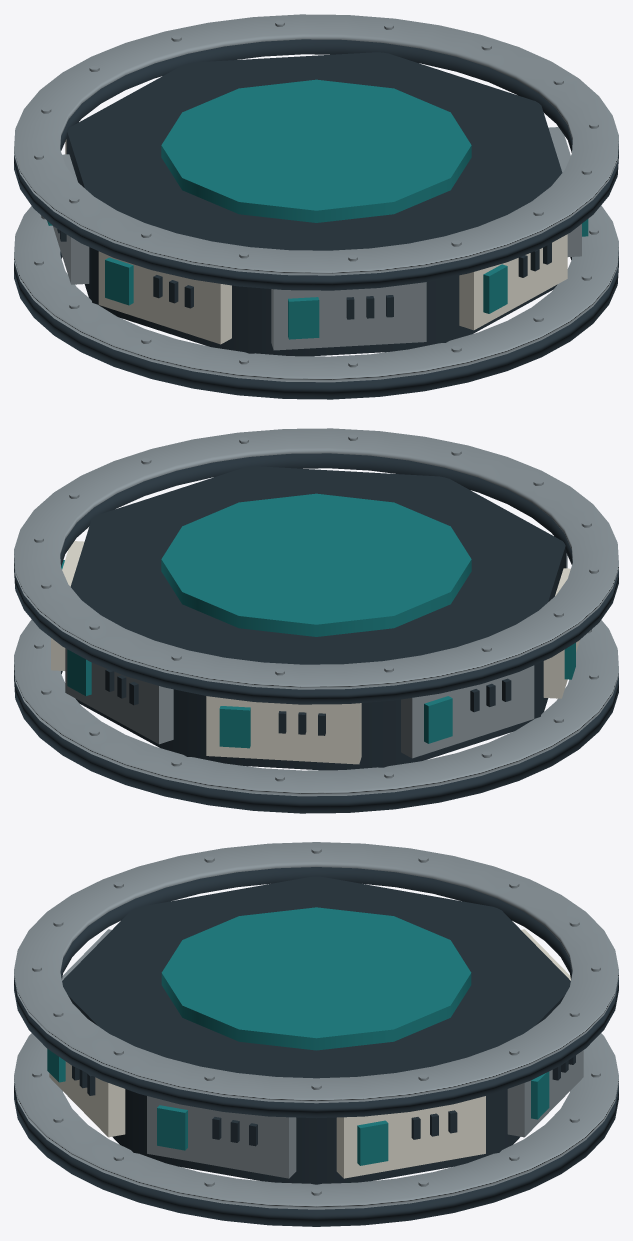
File: pb_1_strizh.glb
3 renders of one model, top to bottom at view 1: azimuth 30°, elevation 25°; view 2: azimuth 150°, elevation 25°; view 3: azimuth 270°, elevation 25°, orthographic.
Parts seen in each view (by area): view 1: pb_1_strizh.mesh_JUGRE_·_graphite_composite, pb_1_strizh.mesh_JUGRE_·_bead-blasted_titanium, pb_1_strizh.mesh_JUGRE_·_signal_teal, pb_1_strizh.avionics_bay_08.mesh_JUGRE_·_bead-blasted_titani, pb_1_strizh.avionics_bay_07.mesh_JUGRE_·_bone_ceramic, pb_1_strizh.avionics_bay_01.mesh_JUGRE_·_bone_ceramic, pb_1_strizh.avionics_bay_06.mesh_JUGRE_·_bead-blasted_titani, pb_1_strizh.avionics_bay_08.mesh_JUGRE_·_signal_teal, pb_1_strizh.avionics_bay_07.mesh_JUGRE_·_signal_teal, pb_1_strizh.avionics_bay_01.mesh_JUGRE_·_signal_teal, pb_1_strizh.avionics_bay_02.mesh_JUGRE_·_bead-blasted_titani, pb_1_strizh.avionics_bay_07.mesh_JUGRE_·_graphite_composite (+2 smaller); view 2: pb_1_strizh.mesh_JUGRE_·_graphite_composite, pb_1_strizh.mesh_JUGRE_·_bead-blasted_titanium, pb_1_strizh.mesh_JUGRE_·_signal_teal, pb_1_strizh.avionics_bay_05.mesh_JUGRE_·_bone_ceramic, pb_1_strizh.avionics_bay_06.mesh_JUGRE_·_bead-blasted_titani, pb_1_strizh.avionics_bay_04.mesh_JUGRE_·_bead-blasted_titani, pb_1_strizh.avionics_bay_05.mesh_JUGRE_·_signal_teal, pb_1_strizh.avionics_bay_06.mesh_JUGRE_·_signal_teal, pb_1_strizh.avionics_bay_07.mesh_JUGRE_·_bone_ceramic, pb_1_strizh.avionics_bay_03.mesh_JUGRE_·_bone_ceramic, pb_1_strizh.avionics_bay_04.mesh_JUGRE_·_signal_teal, pb_1_strizh.avionics_bay_06.mesh_JUGRE_·_graphite_composite (+2 smaller); view 3: pb_1_strizh.mesh_JUGRE_·_graphite_composite, pb_1_strizh.mesh_JUGRE_·_bead-blasted_titanium, pb_1_strizh.mesh_JUGRE_·_signal_teal, pb_1_strizh.avionics_bay_03.mesh_JUGRE_·_bone_ceramic, pb_1_strizh.avionics_bay_02.mesh_JUGRE_·_bead-blasted_titani, pb_1_strizh.avionics_bay_01.mesh_JUGRE_·_bone_ceramic, pb_1_strizh.avionics_bay_04.mesh_JUGRE_·_bead-blasted_titani, pb_1_strizh.avionics_bay_03.mesh_JUGRE_·_signal_teal, pb_1_strizh.avionics_bay_02.mesh_JUGRE_·_signal_teal, pb_1_strizh.avionics_bay_04.mesh_JUGRE_·_signal_teal, pb_1_strizh.avionics_bay_02.mesh_JUGRE_·_graphite_composite, pb_1_strizh.avionics_bay_03.mesh_JUGRE_·_graphite_composite.
Boxes of the visible parts, x1,y1,x2,y2 form: pb_1_strizh.mesh_JUGRE_·_graphite_composite: [14, 39, 618, 399]; pb_1_strizh.mesh_JUGRE_·_bead-blasted_titanium: [14, 14, 618, 382]; pb_1_strizh.mesh_JUGRE_·_signal_teal: [161, 79, 471, 222]; pb_1_strizh.avionics_bay_08.mesh_JUGRE_·_bead-blasted_titani: [271, 282, 426, 350]; pb_1_strizh.avionics_bay_07.mesh_JUGRE_·_bone_ceramic: [98, 251, 231, 344]; pb_1_strizh.avionics_bay_01.mesh_JUGRE_·_bone_ceramic: [459, 234, 567, 330]; pb_1_strizh.avionics_bay_06.mesh_JUGRE_·_bead-blasted_titani: [53, 154, 89, 284]; pb_1_strizh.avionics_bay_08.mesh_JUGRE_·_signal_teal: [288, 297, 319, 339]; pb_1_strizh.avionics_bay_07.mesh_JUGRE_·_signal_teal: [105, 257, 133, 305]; pb_1_strizh.avionics_bay_01.mesh_JUGRE_·_signal_teal: [483, 264, 507, 313]; pb_1_strizh.avionics_bay_02.mesh_JUGRE_·_bead-blasted_titani: [548, 127, 581, 256]; pb_1_strizh.avionics_bay_07.mesh_JUGRE_·_graphite_composite: [153, 275, 193, 308]; pb_1_strizh.mesh_JUGRE_·_graphite_composite: [14, 453, 618, 813]; pb_1_strizh.mesh_JUGRE_·_bead-blasted_titanium: [14, 428, 618, 796]; pb_1_strizh.mesh_JUGRE_·_signal_teal: [161, 493, 471, 636]; pb_1_strizh.avionics_bay_05.mesh_JUGRE_·_bone_ceramic: [206, 696, 361, 764]; pb_1_strizh.avionics_bay_06.mesh_JUGRE_·_bead-blasted_titani: [401, 665, 534, 758]; pb_1_strizh.avionics_bay_04.mesh_JUGRE_·_bead-blasted_titani: [65, 648, 173, 744]; pb_1_strizh.avionics_bay_05.mesh_JUGRE_·_signal_teal: [219, 706, 250, 748]; pb_1_strizh.avionics_bay_06.mesh_JUGRE_·_signal_teal: [424, 696, 452, 743]; pb_1_strizh.avionics_bay_07.mesh_JUGRE_·_bone_ceramic: [543, 568, 579, 698]; pb_1_strizh.avionics_bay_03.mesh_JUGRE_·_bone_ceramic: [51, 541, 84, 670]; pb_1_strizh.avionics_bay_04.mesh_JUGRE_·_signal_teal: [67, 649, 91, 695]; pb_1_strizh.avionics_bay_06.mesh_JUGRE_·_graphite_composite: [470, 678, 511, 712]; pb_1_strizh.mesh_JUGRE_·_graphite_composite: [14, 867, 618, 1226]; pb_1_strizh.mesh_JUGRE_·_bead-blasted_titanium: [14, 842, 618, 1209]; pb_1_strizh.mesh_JUGRE_·_signal_teal: [161, 907, 471, 1050]; pb_1_strizh.avionics_bay_03.mesh_JUGRE_·_bone_ceramic: [336, 1096, 485, 1178]; pb_1_strizh.avionics_bay_02.mesh_JUGRE_·_bead-blasted_titani: [147, 1096, 296, 1178]; pb_1_strizh.avionics_bay_01.mesh_JUGRE_·_bone_ceramic: [49, 1061, 125, 1137]; pb_1_strizh.avionics_bay_04.mesh_JUGRE_·_bead-blasted_titani: [507, 1050, 583, 1137]; pb_1_strizh.avionics_bay_03.mesh_JUGRE_·_signal_teal: [357, 1120, 388, 1165]; pb_1_strizh.avionics_bay_02.mesh_JUGRE_·_signal_teal: [157, 1105, 187, 1150]; pb_1_strizh.avionics_bay_04.mesh_JUGRE_·_signal_teal: [531, 1071, 549, 1119]; pb_1_strizh.avionics_bay_02.mesh_JUGRE_·_graphite_composite: [212, 1117, 257, 1146]; pb_1_strizh.avionics_bay_03.mesh_JUGRE_·_graphite_composite: [411, 1110, 457, 1139].
Bounding box in the file's own units: 1.25 × 0.3 × 1.25.
